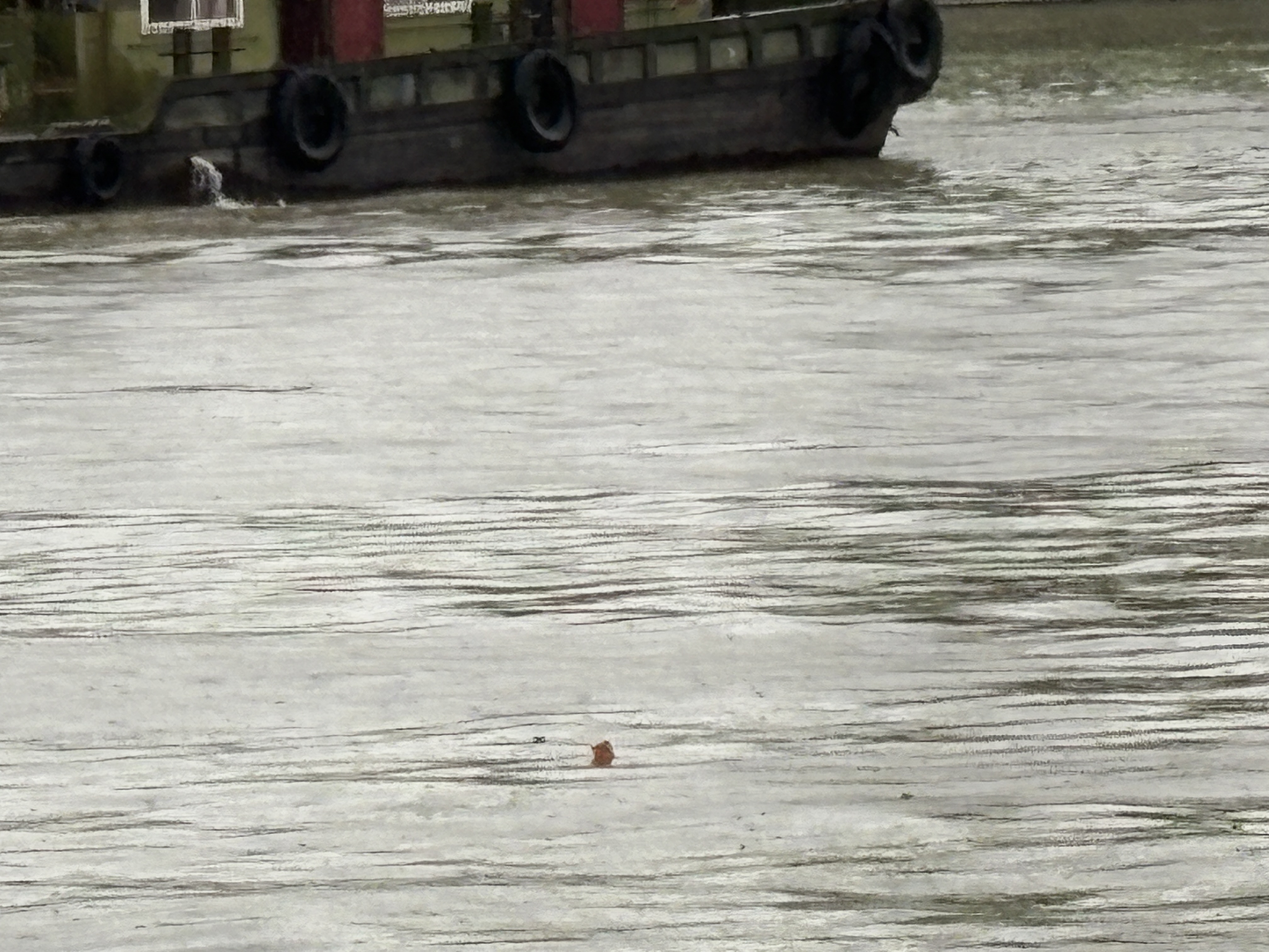Plastic wastes: (586, 737, 619, 766)
